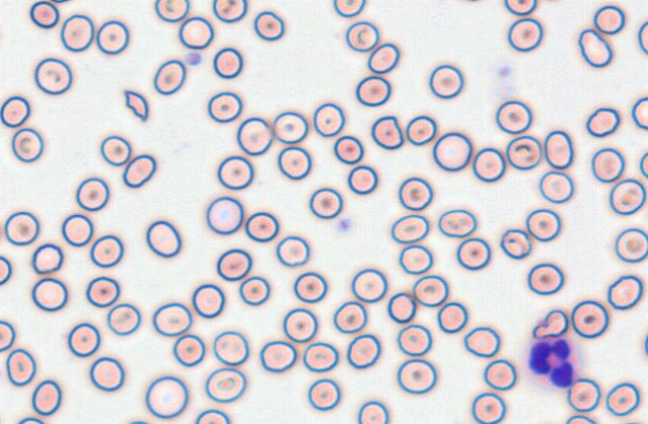GRAN: (524, 334, 580, 390)
PLT: (493, 61, 513, 79), (183, 49, 201, 68), (337, 219, 352, 232)
RBC: (145, 375, 188, 418), (432, 131, 472, 171), (570, 299, 609, 338), (204, 367, 246, 403), (205, 196, 244, 234), (396, 358, 437, 394), (236, 116, 273, 155), (34, 57, 72, 94), (609, 178, 646, 215), (145, 219, 181, 257), (152, 302, 192, 336), (60, 13, 94, 52), (607, 274, 643, 310), (282, 307, 318, 343), (212, 330, 249, 365), (217, 155, 254, 190), (505, 135, 542, 170), (346, 333, 381, 369), (507, 17, 543, 52), (351, 268, 387, 303), (31, 277, 68, 311), (495, 100, 532, 134), (566, 377, 601, 412), (89, 356, 124, 391), (4, 210, 39, 245), (428, 64, 463, 99), (614, 227, 648, 263), (525, 208, 561, 242), (272, 110, 308, 144), (527, 262, 564, 295), (259, 340, 297, 372), (605, 382, 640, 416), (122, 153, 156, 188), (472, 147, 506, 182), (191, 283, 225, 318), (396, 323, 432, 356), (412, 274, 448, 307), (591, 147, 624, 183), (216, 248, 252, 281), (538, 170, 574, 203), (153, 59, 186, 95), (5, 348, 36, 386), (390, 214, 429, 244), (437, 208, 476, 238), (543, 130, 573, 169), (398, 176, 432, 210), (75, 177, 109, 211), (277, 146, 311, 180), (178, 16, 213, 49), (106, 302, 141, 335), (67, 322, 100, 357), (456, 237, 491, 270), (332, 300, 367, 333), (312, 102, 345, 137), (463, 326, 500, 357), (307, 378, 341, 411), (172, 333, 205, 367), (96, 20, 129, 54), (89, 234, 123, 267), (85, 275, 120, 307), (11, 127, 43, 162), (308, 187, 343, 219), (207, 91, 242, 123), (302, 341, 338, 372), (355, 75, 391, 106), (31, 379, 61, 416), (61, 213, 93, 247), (345, 20, 379, 52), (293, 271, 327, 303), (275, 235, 309, 267), (471, 392, 506, 423), (244, 211, 279, 242), (483, 358, 516, 390), (398, 244, 433, 274), (585, 107, 620, 137), (436, 301, 468, 333), (367, 42, 399, 74), (499, 228, 532, 259), (31, 243, 63, 274), (405, 114, 437, 145), (100, 135, 131, 166), (253, 10, 284, 41), (212, 47, 243, 78), (0, 95, 30, 127), (386, 291, 416, 323), (593, 4, 625, 34), (238, 275, 270, 305), (347, 164, 378, 194), (333, 135, 363, 164), (29, 0, 59, 28), (154, 0, 189, 22), (212, 0, 247, 22), (357, 400, 389, 423), (631, 96, 647, 130), (333, 0, 365, 17), (194, 408, 230, 423), (503, 0, 536, 15), (0, 319, 15, 351), (637, 20, 648, 54), (0, 255, 12, 285), (564, 414, 597, 423), (639, 151, 648, 178), (18, 416, 44, 423), (125, 419, 150, 424), (644, 330, 648, 357), (0, 22, 4, 48), (48, 0, 73, 3), (452, 0, 488, 2), (543, 0, 567, 2)
Schistocyte: (579, 29, 611, 69), (372, 116, 405, 149), (532, 310, 569, 337), (124, 89, 147, 122)
